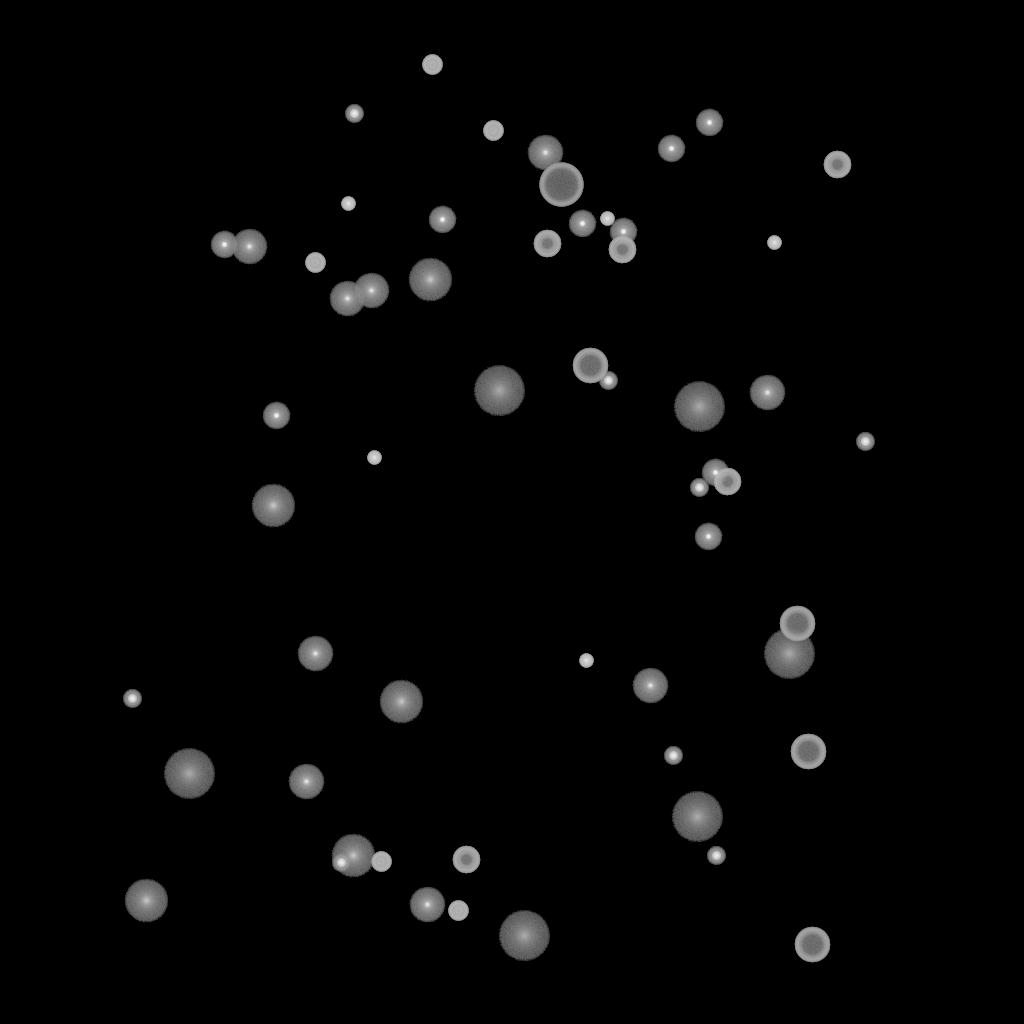depth:-10: (568, 210, 596, 238), (262, 402, 290, 430), (657, 135, 685, 163), (694, 523, 722, 551), (609, 218, 637, 246), (210, 231, 238, 259), (701, 459, 729, 487), (695, 109, 723, 137), (428, 206, 456, 234)
depth:-20: (707, 847, 725, 865), (690, 479, 708, 497), (664, 747, 682, 765), (856, 433, 874, 451), (599, 372, 617, 390), (345, 105, 363, 123), (332, 854, 350, 872), (123, 690, 141, 708)
depth:-30: (767, 236, 781, 250), (579, 654, 593, 668), (367, 451, 381, 465), (341, 197, 355, 211), (600, 212, 614, 226)
depth:-40: (422, 55, 442, 75), (483, 121, 503, 141), (448, 901, 468, 921), (305, 253, 325, 273), (371, 852, 391, 872)
depth:-50: (823, 151, 851, 179), (608, 236, 636, 264), (452, 846, 480, 874), (533, 230, 561, 258), (713, 468, 741, 496)
depth:-60: (779, 606, 815, 642), (794, 927, 830, 963), (572, 348, 608, 384), (790, 734, 826, 770)
depth:-70: (539, 163, 583, 207)
depth:0: (288, 764, 324, 800), (409, 887, 445, 923), (353, 273, 389, 309), (632, 668, 668, 704), (527, 135, 563, 171), (749, 375, 785, 411), (297, 636, 333, 672), (231, 229, 267, 265), (329, 281, 365, 317)
depth:10: (379, 680, 423, 724), (408, 258, 452, 302), (251, 484, 295, 528), (331, 834, 375, 878), (124, 879, 168, 923)
depth:20: (673, 382, 725, 432), (473, 366, 525, 416), (163, 749, 215, 799), (763, 629, 815, 679), (498, 911, 550, 961), (671, 792, 723, 842)
